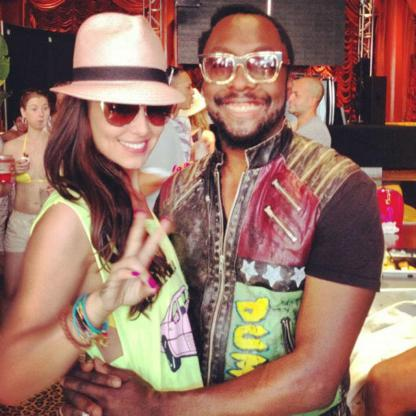face: (204, 23, 288, 141), (89, 74, 165, 170), (26, 100, 50, 130), (290, 83, 313, 114), (177, 76, 195, 110), (18, 117, 28, 132)
